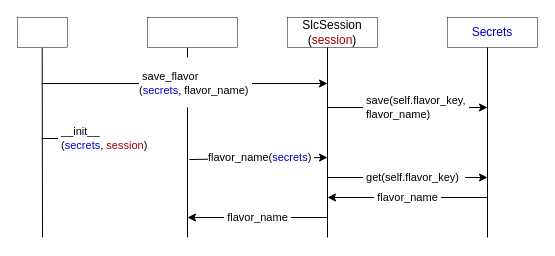
Image size: 555x256. Some labels were removed from this diagram. The centre of each missing label's shape, as x and y in pixels:
"Caller" belongs at (42,32).
"SlctManager" belongs at (192,32).
